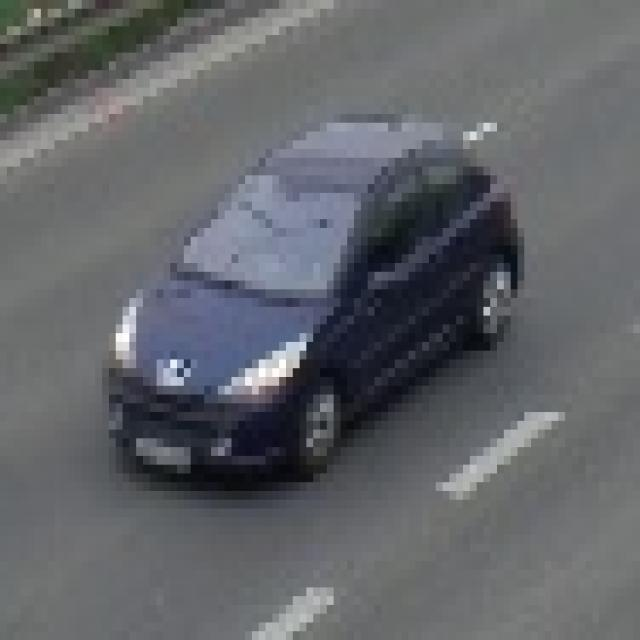blue: (107, 123, 517, 486)
